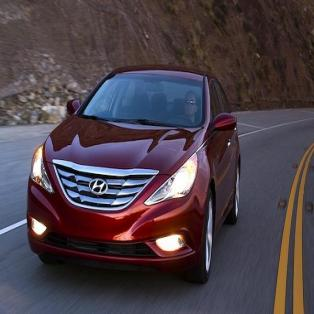Auto: (23, 58, 243, 277)
